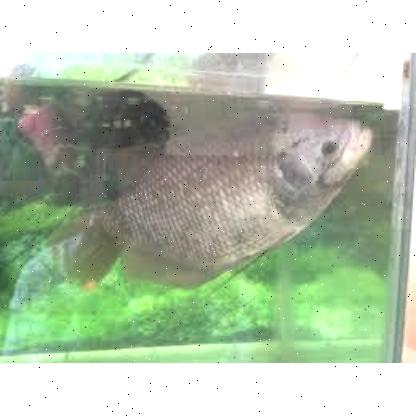gurame: (50, 102, 376, 288)
